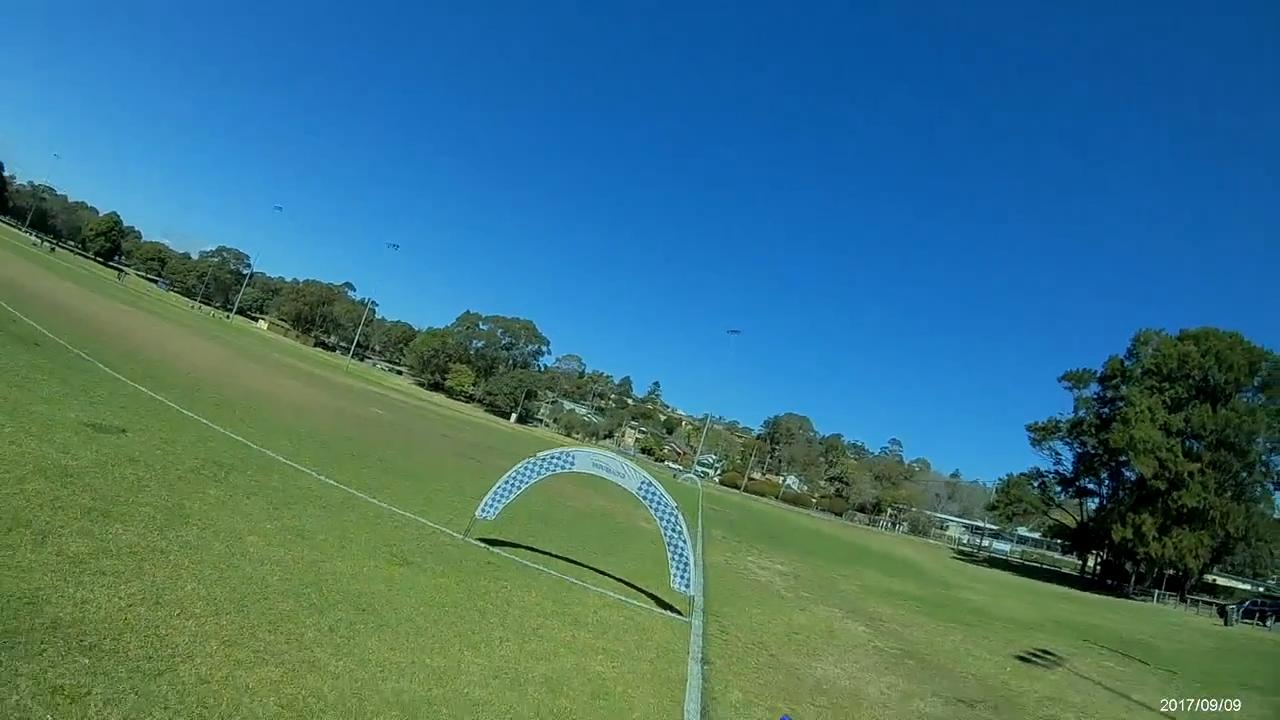gate: (469, 443, 697, 602)
